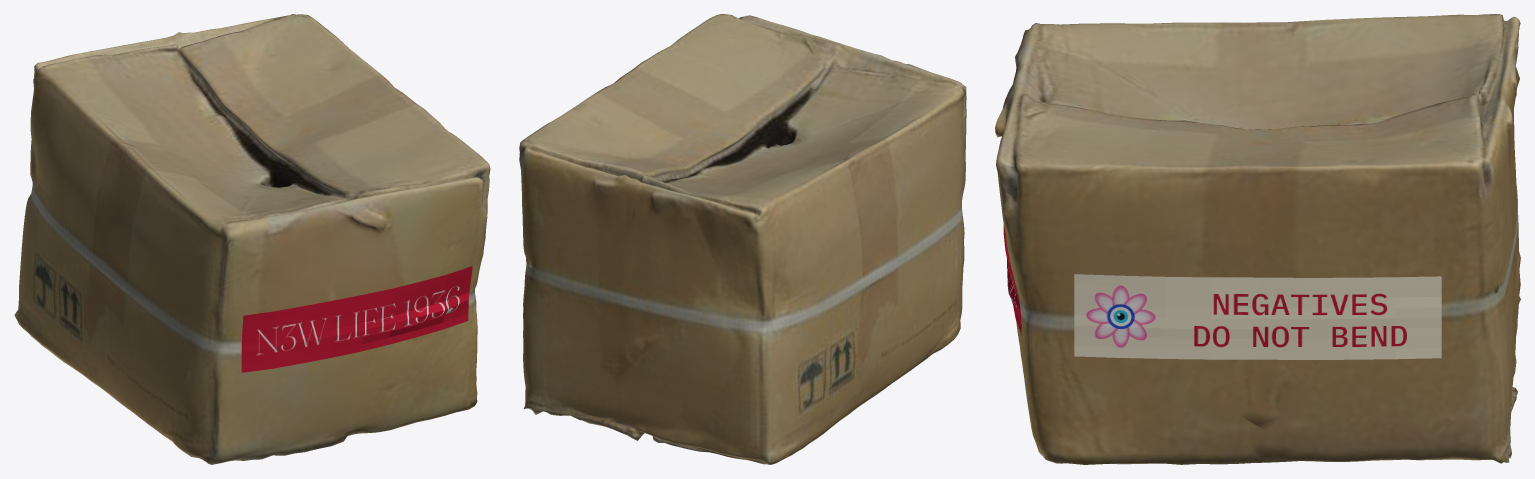
The model's file is nyb_mitty_box.glb.
3 views of the same model, side by side, from view 1: azimuth 30°, elevation 25°; view 2: azimuth 150°, elevation 25°; view 3: azimuth 270°, elevation 25° (orthographic). The views are drawn at different scales.
Visible parts, largest first — view 1: cardboard_box_01, stk_lbl_da5890557e.png; view 2: cardboard_box_01; view 3: cardboard_box_01, stk_lbl_60ccd342a9.png, stk_lbl_da5890557e.png.
Boxes of the visible parts, x1=… form: cardboard_box_01: x1=14, y1=14, x2=490, y2=464; stk_lbl_da5890557e.png: x1=241, y1=266, x2=472, y2=372; cardboard_box_01: x1=519, y1=14, x2=966, y2=464; cardboard_box_01: x1=995, y1=14, x2=1520, y2=464; stk_lbl_60ccd342a9.png: x1=1074, y1=274, x2=1441, y2=359; stk_lbl_da5890557e.png: x1=1003, y1=224, x2=1021, y2=335.
Bounding box in the file's own units: 0.3871 × 0.3418 × 0.5159.
3 materials, 3 textured.
